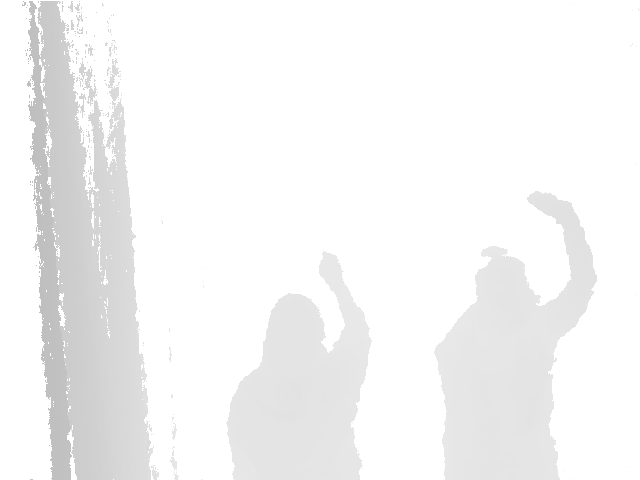hand: (527, 189, 582, 225), (320, 253, 344, 284)
head: (261, 292, 328, 371), (474, 246, 542, 321)
person: (430, 189, 598, 480), (224, 253, 373, 480)
